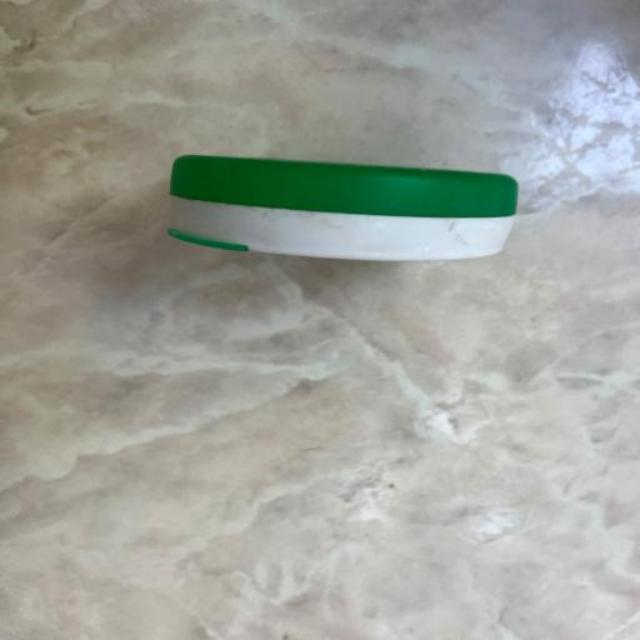HDPE: (118, 121, 577, 346)
